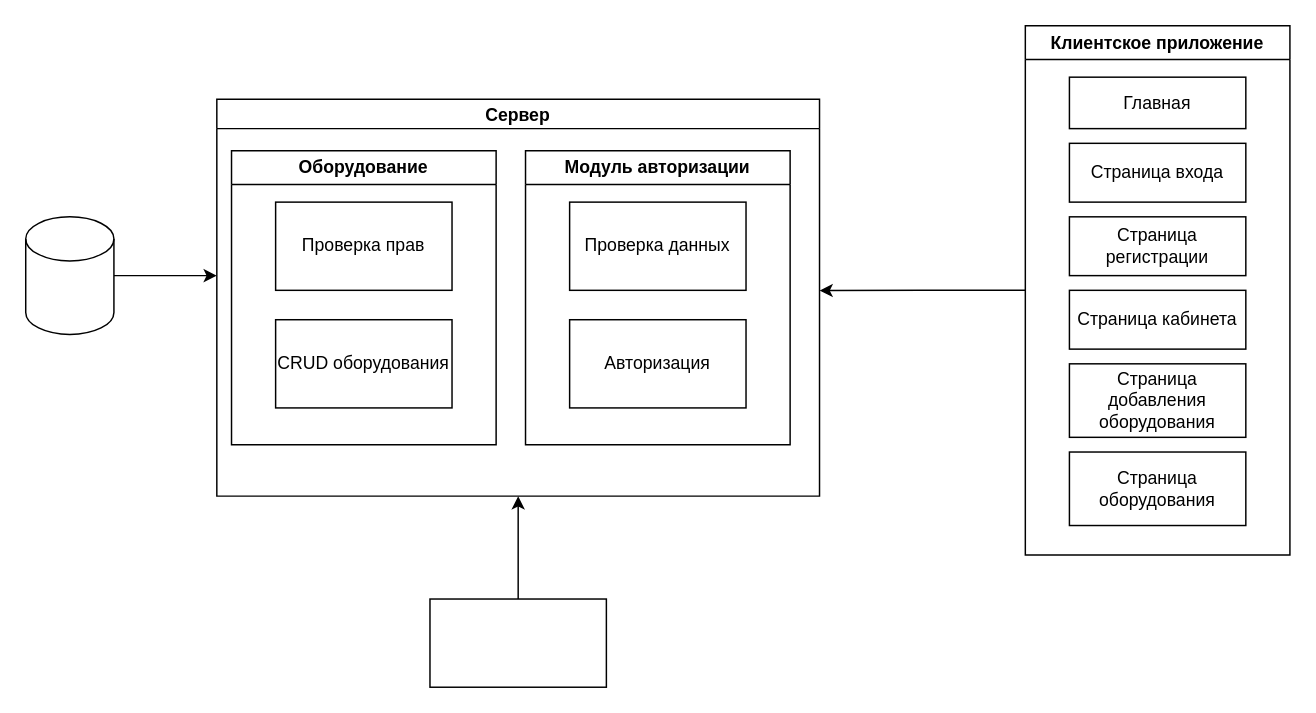
The diagram is 1316 pixels wide and 713 high, and some of its shapes have lost their labels. The shapes that lost their labels are listed below. From the top down, each one's centre as x and y in pixels, then its label:
At (x=69, y=274): "MySQL".
At (x=517, y=642): "Модуль среды разработки".
